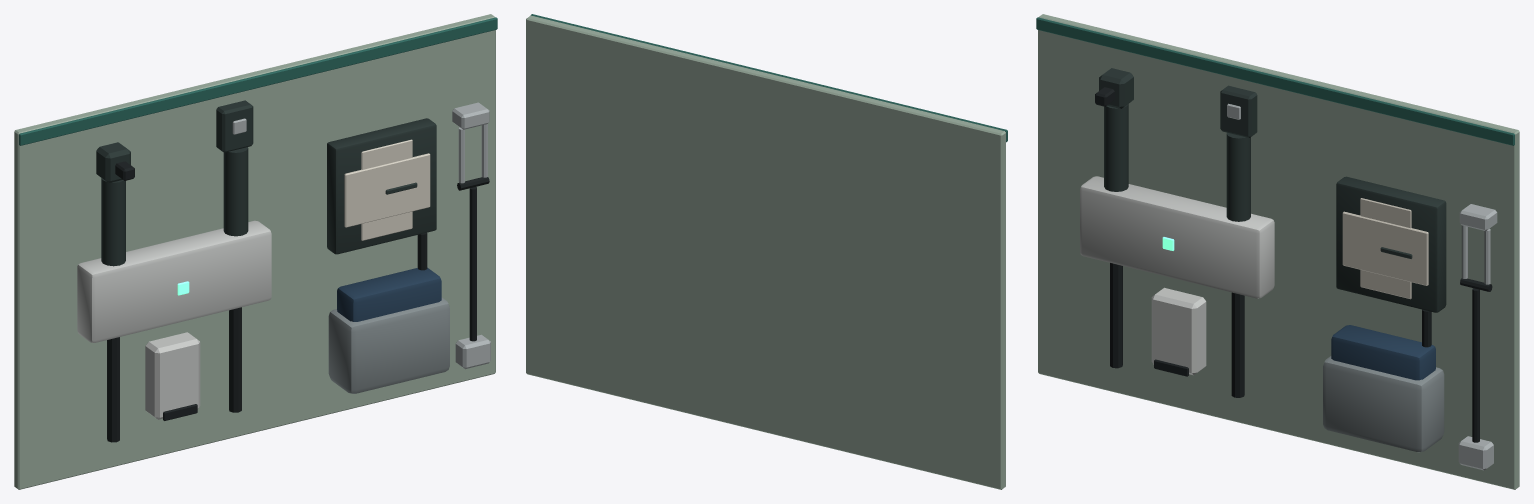
File: diagnostic-wall-set.glb
3 renders of one model, left to right at view 1: azimuth 30°, elevation 25°; view 2: azimuth 150°, elevation 25°; view 3: azimuth 330°, elevation 25°, orthographic.
Parts seen in each view (by area): view 1: diagnostic-wall-set; view 2: diagnostic-wall-set; view 3: diagnostic-wall-set.
Boxes of the visible parts, x1,y1,x2,y2 form: diagnostic-wall-set: (14, 14, 497, 489); diagnostic-wall-set: (526, 14, 1007, 489); diagnostic-wall-set: (1036, 14, 1519, 489).
Bounding box in the file's own units: 0.84 × 0.6 × 0.09.
